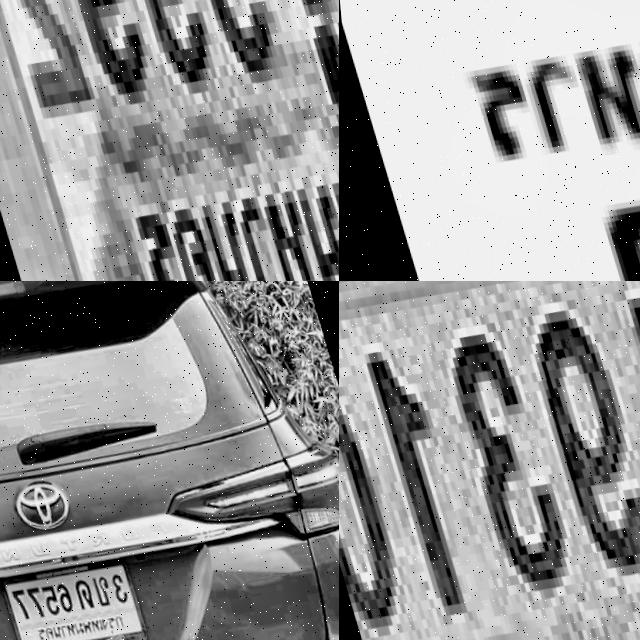license-plate: (339, 281, 640, 640), (0, 0, 339, 281), (339, 0, 640, 281), (0, 547, 142, 640)
